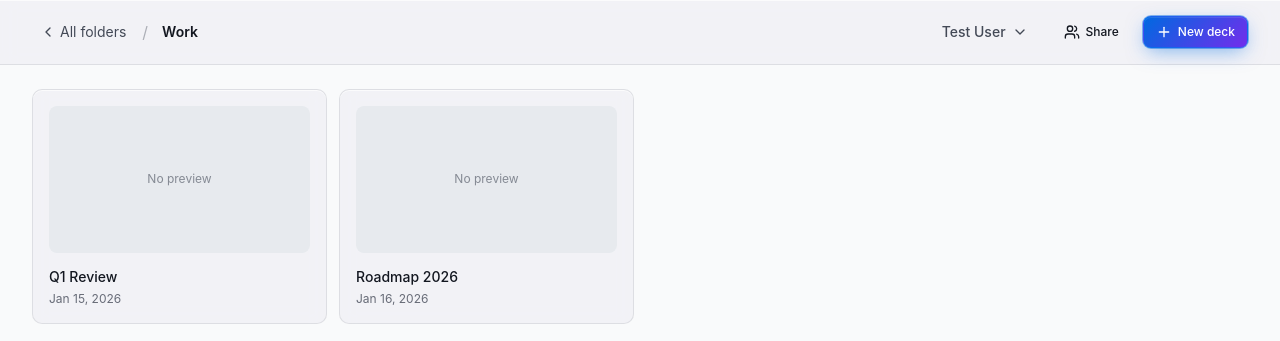
Scenario: FolderDecks › clicking folder name in breadcrumb enters rename mode
Click the button with aria-label "Rename folder (click to edit)" at (180, 32), box [156,20,204,44]
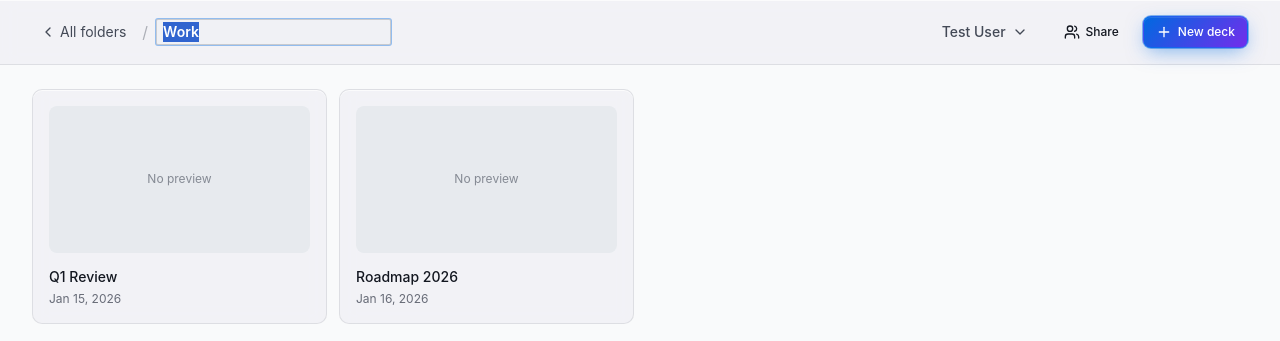
Now the field named "Folder name" is shown, box [156,19,391,45]
